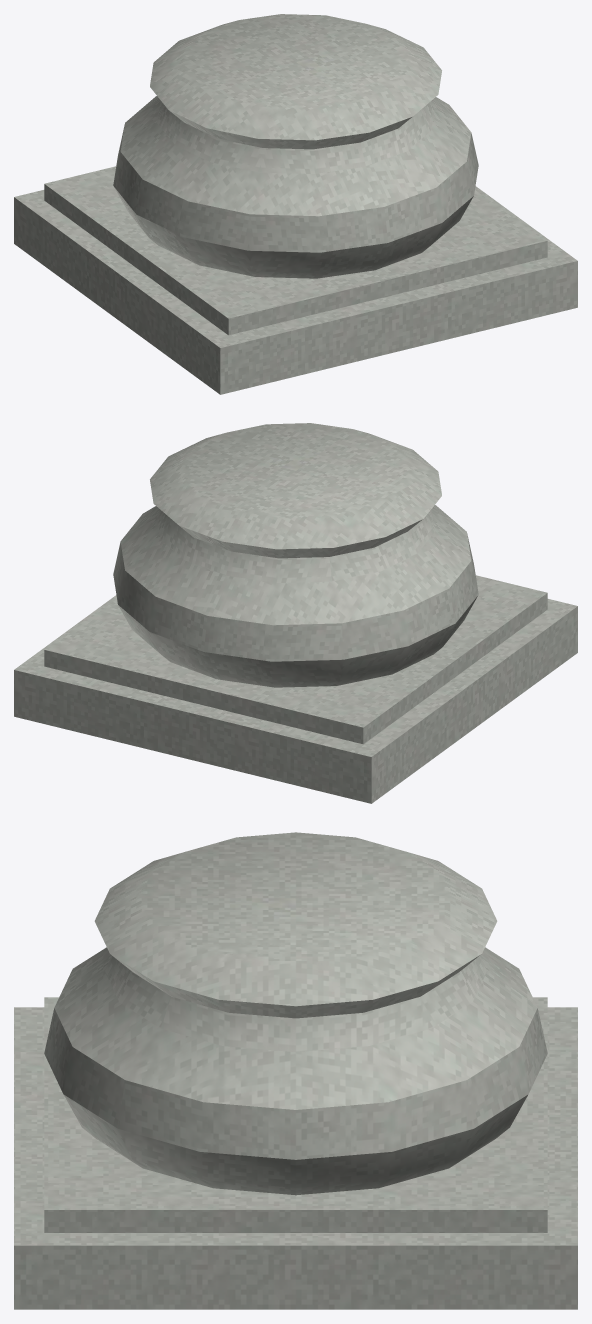
File: zhuchu-gujing.glb
The picture shows the model from 3 angles, top to bottom: view 1: azimuth 30°, elevation 25°; view 2: azimuth 150°, elevation 25°; view 3: azimuth 270°, elevation 25°; orthographic projection. The views are drawn at different scales.
Visible parts, largest first — view 1: zhuchu; view 2: zhuchu; view 3: zhuchu.
Part boxes in pixels (x1,y1,x2,y2): zhuchu: (14,14,577,394); zhuchu: (14,423,577,803); zhuchu: (14,832,577,1309).
Size of the model in its own units: 0.56 by 0.32 by 0.56.
Materials: 1 (1 with a texture image).
